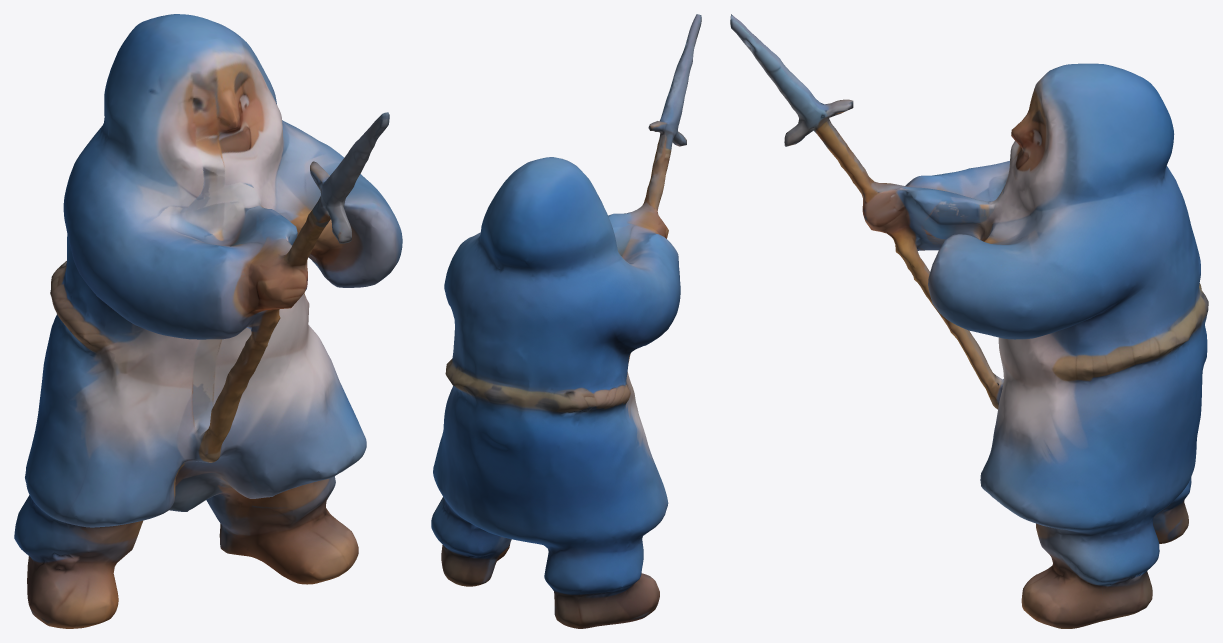
The model's file is un_inuit_avec_un_harp_0704145504_refine.obj.
The picture shows the model from 3 angles, left to right: view 1: azimuth 30°, elevation 25°; view 2: azimuth 150°, elevation 25°; view 3: azimuth 270°, elevation 25°; orthographic projection. The views are drawn at different scales.
Parts seen in each view (by area): view 1: Mesh_0; view 2: Mesh_0; view 3: Mesh_0.
Part boxes in pixels (x1,y1,x2,y2): Mesh_0: (14, 14, 402, 628); Mesh_0: (431, 14, 701, 628); Mesh_0: (730, 14, 1208, 628).
Bounding box in the file's own units: 0.6005 × 1.2 × 0.9222.
Materials: 1 (1 with a texture image).
